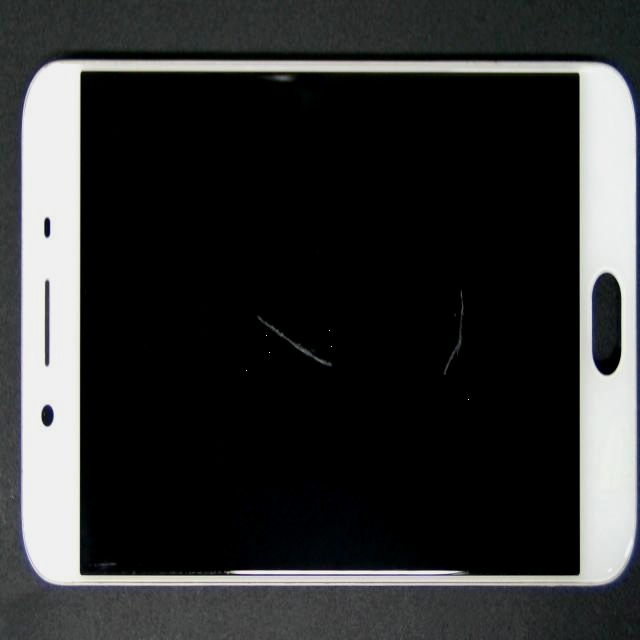scratch: (238, 91, 640, 454), (132, 128, 375, 462)
